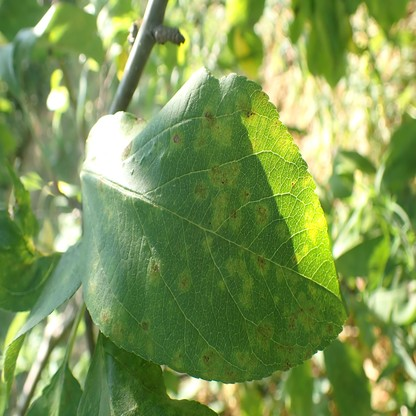scab: (120, 357, 161, 416), (226, 259, 252, 308), (0, 255, 36, 284), (204, 109, 230, 148), (297, 292, 321, 333), (208, 161, 241, 189), (272, 122, 296, 158), (162, 399, 215, 414), (305, 202, 325, 241), (236, 93, 258, 125), (201, 348, 223, 378), (211, 193, 228, 229), (256, 321, 273, 354), (278, 341, 296, 372), (147, 254, 163, 286), (253, 202, 270, 231), (252, 250, 269, 275), (169, 128, 185, 153), (275, 265, 296, 284), (285, 307, 298, 333), (194, 128, 207, 153), (177, 269, 190, 293), (293, 244, 309, 263), (90, 260, 99, 292), (193, 183, 209, 201), (230, 208, 241, 234), (172, 350, 185, 371), (223, 364, 236, 384), (322, 319, 337, 336), (235, 350, 248, 369), (201, 237, 214, 255), (276, 221, 288, 239), (122, 142, 133, 161), (245, 359, 254, 381), (155, 140, 167, 156), (240, 188, 250, 207), (102, 203, 112, 221), (99, 308, 110, 324), (112, 325, 123, 341), (309, 333, 320, 347), (302, 346, 313, 359), (97, 177, 104, 196), (145, 343, 153, 359), (238, 241, 247, 255), (141, 320, 150, 333), (337, 307, 346, 320), (308, 284, 317, 295), (218, 279, 226, 291), (248, 141, 257, 151), (134, 115, 143, 124), (128, 333, 134, 346), (273, 296, 279, 305)
